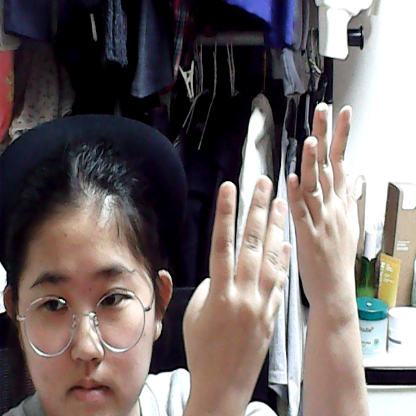Finger_4: (175, 157, 293, 384), (283, 99, 366, 315)
